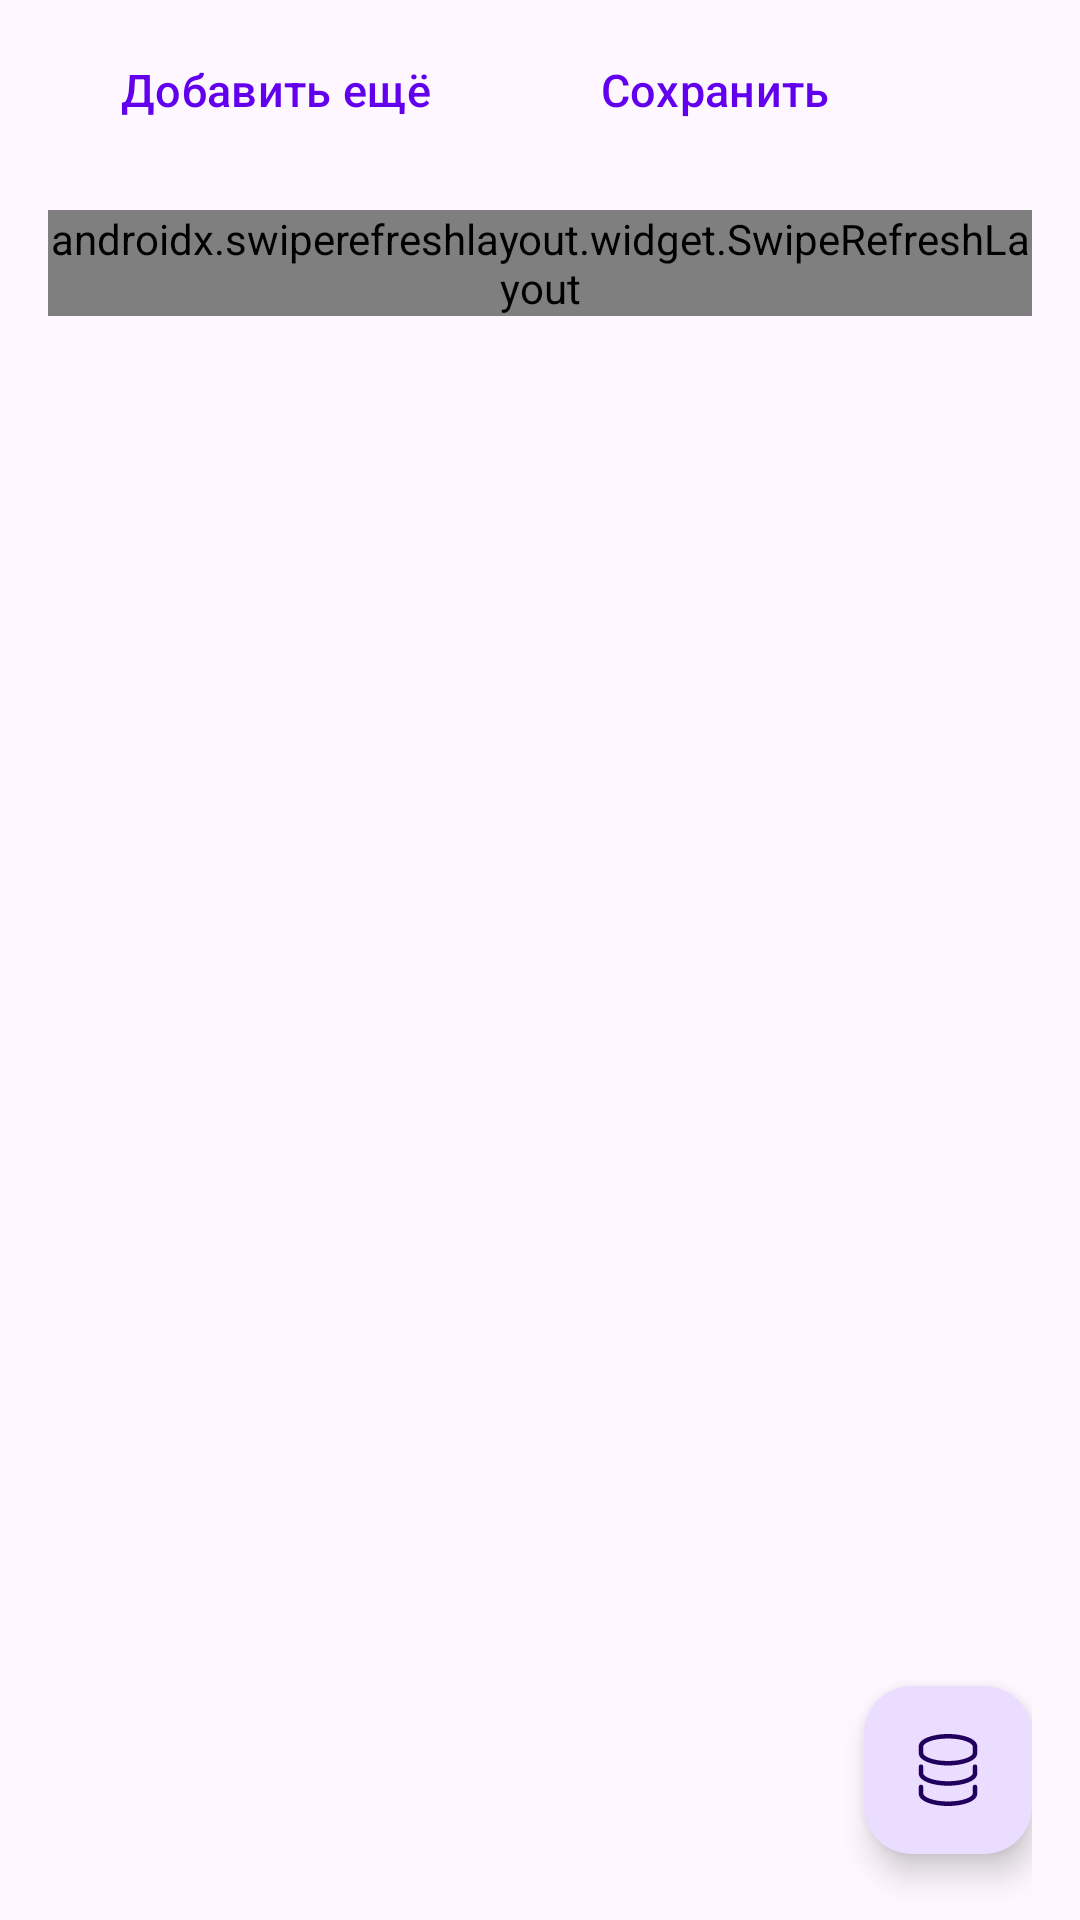

Named icons in this screenshot (1080*1920) and their bounding boxes, (x1, y1, x2, y2):
database: (864, 1686, 1032, 1854)
